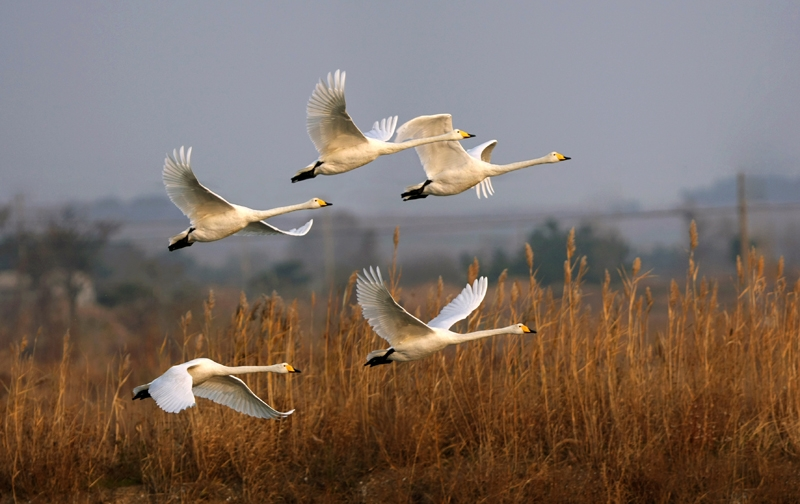bird: (282, 68, 475, 187), (148, 145, 334, 253), (351, 265, 536, 370), (396, 110, 574, 204), (119, 356, 300, 422)
